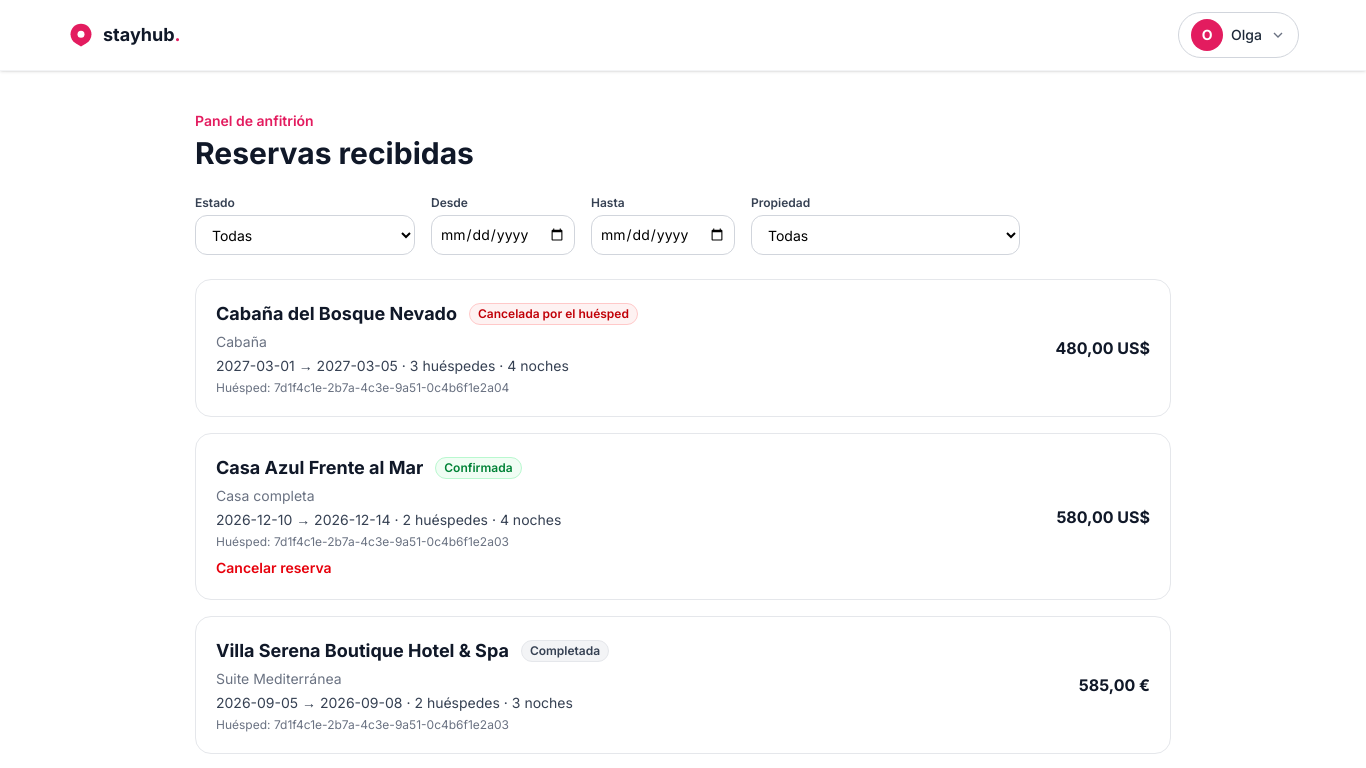
BookingsReceived — owner history › filters by status
expect the list named "Reservas recibidas" is shown: met, box 195,279 -> 1171,754
Select "Confirmada" in the dropdown labelled "Estado" at (305, 235), box 195,215 -> 415,255
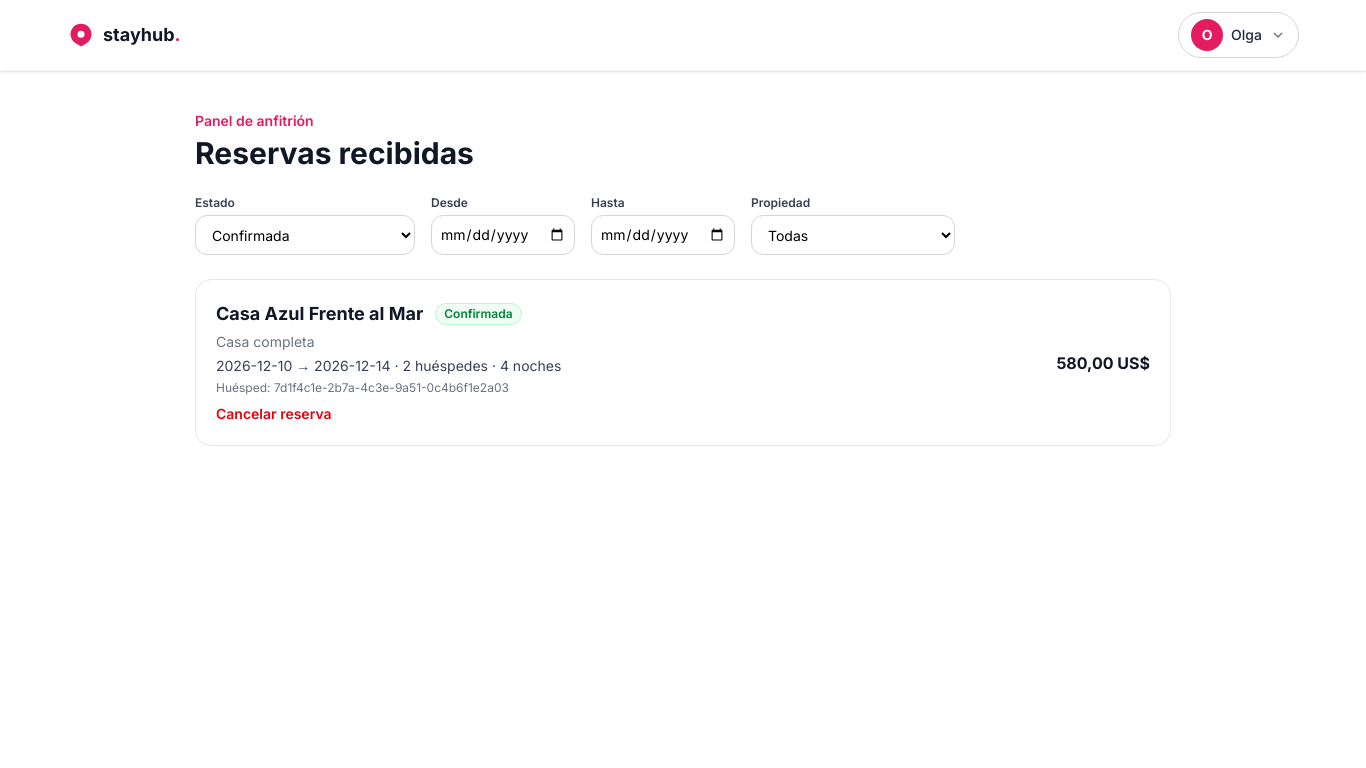
expect the heading "Casa Azul Frente al Mar" is shown: met, box 216,300 -> 423,328
expect the heading "Villa Serena Boutique Hotel & Spa" is gone: met
